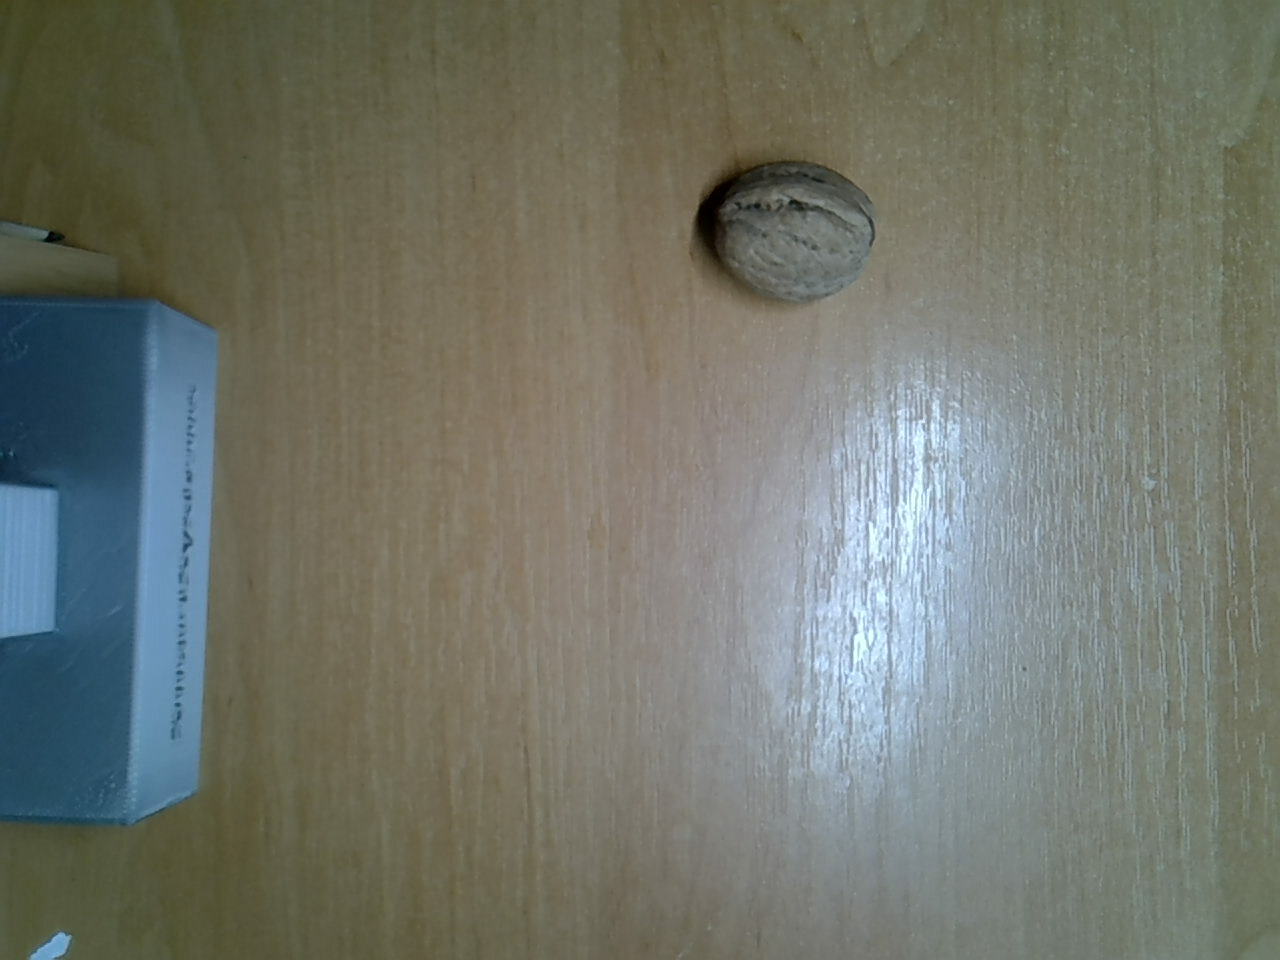nut: (702, 155, 885, 308)
